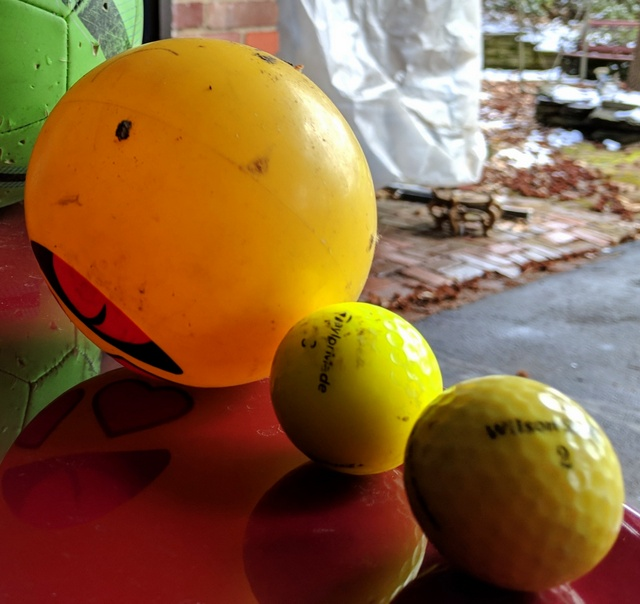ball: (270, 299, 449, 478)
